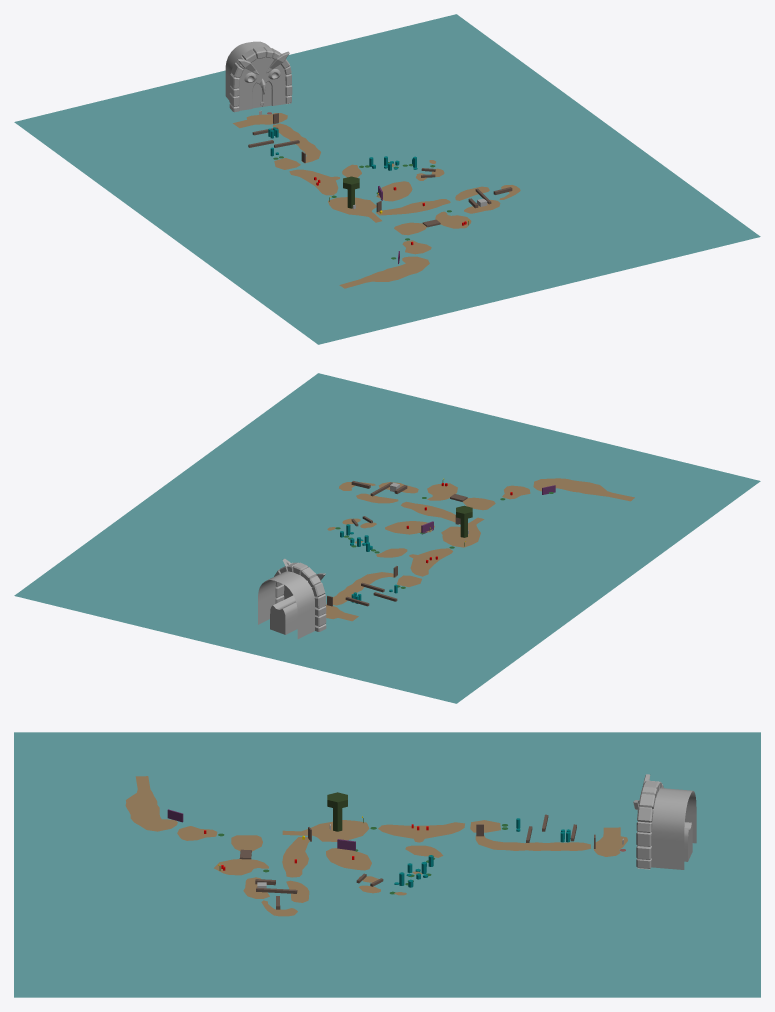
The model's file is WaterBlocking.fbx.
3 views of the same model, one above another, from view 1: azimuth 30°, elevation 25°; view 2: azimuth 150°, elevation 25°; view 3: azimuth 270°, elevation 25° (orthographic). The views are drawn at different scales.
Parts seen in each view (by area): view 1: water, owl_door_face, owl_door_rocks_lp, island_1, island_18, island_14, island_19; view 2: water, owl_door_face, owl_door_rocks_lp, island_1, island_18, island_14, island_19; view 3: water, owl_door_face, owl_door_rocks_lp, island_1, island_18, island_19, island_14, island_15, island_10, island_17, island_4, willow.
Boxes of the visible parts, x1,y1,x2,y2 form: water: (14, 14, 760, 344); owl_door_face: (225, 41, 289, 110); owl_door_rocks_lp: (229, 46, 292, 112); island_1: (339, 256, 429, 288); island_18: (328, 197, 381, 222); island_14: (289, 169, 339, 195); island_19: (273, 123, 320, 163); water: (14, 373, 760, 703); owl_door_face: (258, 558, 325, 638); owl_door_rocks_lp: (274, 562, 326, 631); island_1: (533, 478, 634, 501); island_18: (441, 517, 484, 547); island_14: (409, 548, 452, 576); island_19: (333, 572, 397, 605); water: (14, 732, 760, 997); owl_door_face: (633, 774, 696, 869); owl_door_rocks_lp: (636, 780, 663, 869); island_1: (125, 776, 177, 831); island_18: (282, 820, 369, 841); island_19: (475, 835, 590, 850); island_14: (378, 822, 464, 842); island_15: (282, 837, 309, 877); island_10: (326, 848, 371, 870); island_17: (593, 827, 627, 856); island_4: (214, 859, 268, 875); willow: (327, 792, 347, 831).
Bounding box in the file's own units: 81.6 × 12.07 × 97.19.
